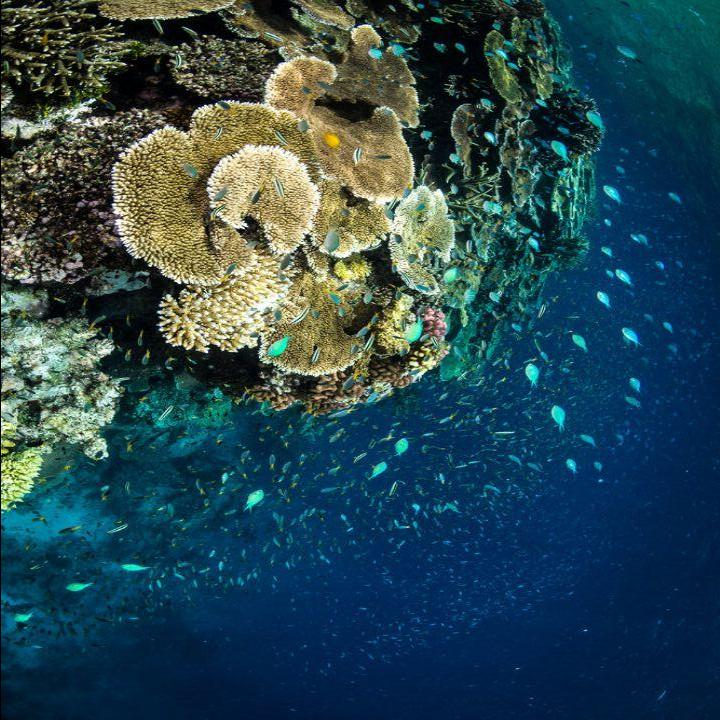Healthy Coral: (60, 5, 600, 475)
